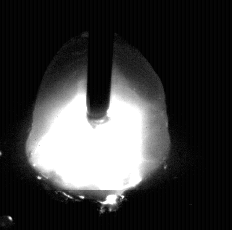arame: (87, 0, 111, 128)
poca: (28, 0, 171, 230)
